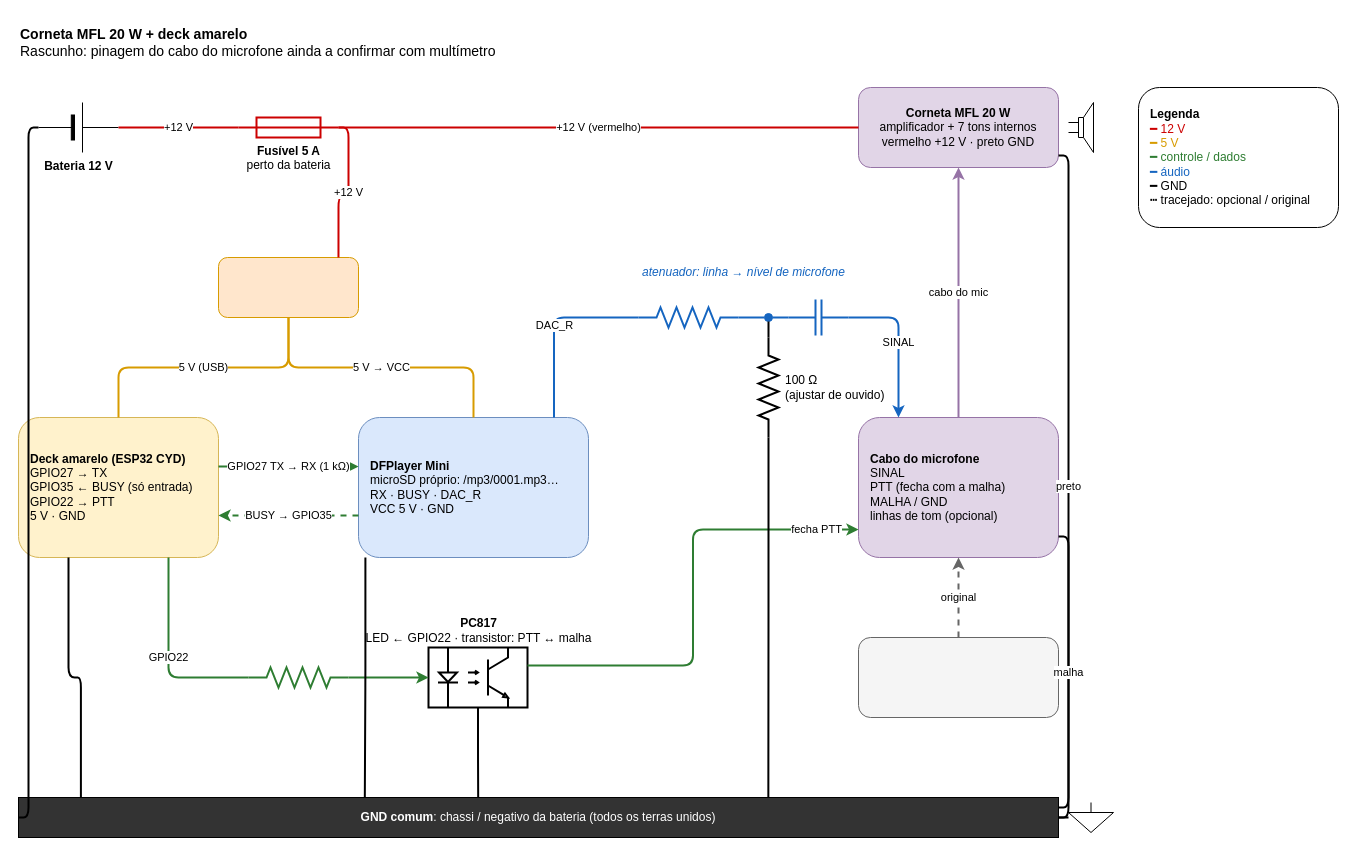
This 1356x855 diagram has some shape labels left out. Here are the shapes that lost their labels. From the top down, the box of each, then its label:
(218, 256, 358, 318): Step-down 12 V → 5 V (2 A)
(637, 306, 739, 328): 10 kΩ
(787, 298, 849, 336): 1 µF
(247, 666, 349, 688): 1 kΩ
(858, 636, 1058, 718): Microfone de mão original continua ligado em paralelo
